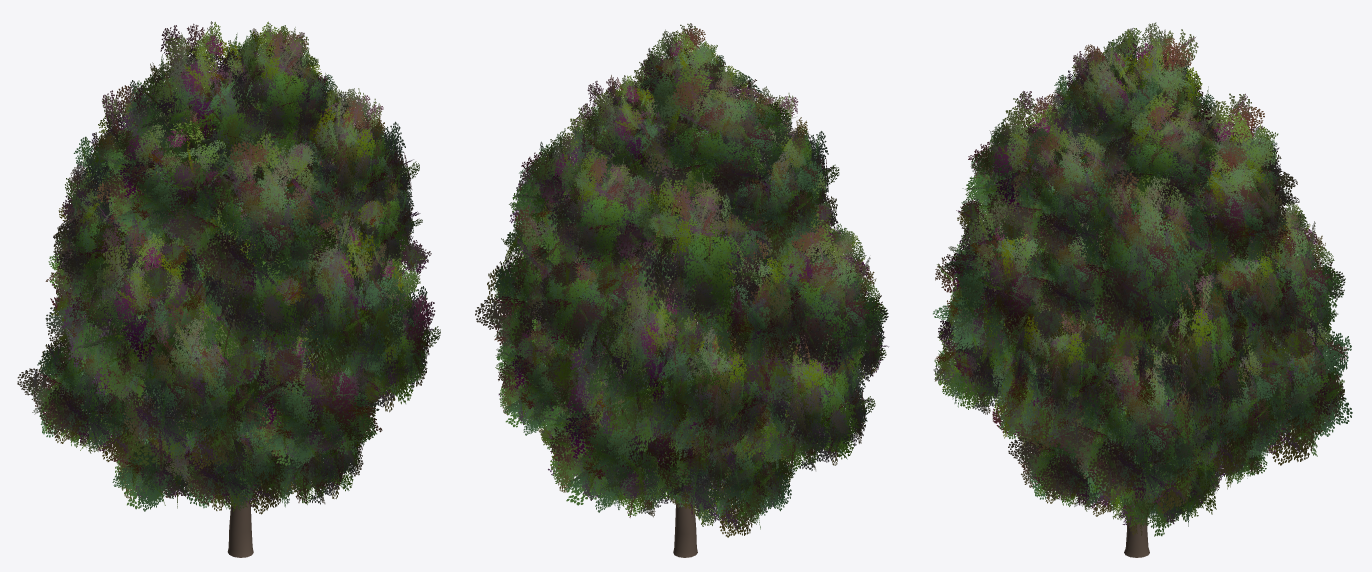
The model's file is tree_medium_upright_asymmetric_canopy.glb.
3 renders of one model, left to right at view 1: azimuth 30°, elevation 25°; view 2: azimuth 150°, elevation 25°; view 3: azimuth 270°, elevation 25°, orthographic. The views are drawn at different scales.
Parts seen in each view (by area): view 1: Camphor_Foliage_OldCrownGroup_26, Camphor_Foliage_OldCrownGroup_18, Camphor_Foliage_OldCrownGroup_11, Camphor_Foliage_OldCrownGroup_20, Camphor_Foliage_OldCrownGroup_29, Camphor_Foliage_OldCrownGroup_12, Camphor_Foliage_OldCrownGroup_25, Camphor_Foliage_OldCrownGroup_27, Camphor_Foliage_OldCrownGroup_19, Camphor_Foliage_OldCrownGroup_30, Camphor_Foliage_OldCrownGroup_10, Camphor_Foliage_OldCrownGroup_04 (+12 smaller); view 2: Camphor_Foliage_OldCrownGroup_29, Camphor_Foliage_OldCrownGroup_16, Camphor_Foliage_OldCrownGroup_24, Camphor_Foliage_OldCrownGroup_08, Camphor_Foliage_OldCrownGroup_18, Camphor_Foliage_OldCrownGroup_10, Camphor_Foliage_OldCrownGroup_23, Camphor_Foliage_OldCrownGroup_09, Camphor_Foliage_OldCrownGroup_17, Camphor_Foliage_OldCrownGroup_03, Camphor_Foliage_OldCrownGroup_25, Camphor_Foliage_OldCrownGroup_28 (+10 smaller); view 3: Camphor_Foliage_OldCrownGroup_22, Camphor_Foliage_OldCrownGroup_06, Camphor_Foliage_OldCrownGroup_14, Camphor_Foliage_OldCrownGroup_27, Camphor_Foliage_OldCrownGroup_20, Camphor_Foliage_OldCrownGroup_13, Camphor_Foliage_OldCrownGroup_28, Camphor_Foliage_OldCrownGroup_23, Camphor_Foliage_OldCrownGroup_29, Camphor_Foliage_OldCrownGroup_30, Camphor_Foliage_OldCrownGroup_08, Camphor_Foliage_OldCrownGroup_26 (+10 smaller).
Part boxes in pixels (box(x1,y1,x2,y2)): Camphor_Foliage_OldCrownGroup_26: box(166, 133, 384, 402); Camphor_Foliage_OldCrownGroup_18: box(61, 223, 263, 475); Camphor_Foliage_OldCrownGroup_11: box(117, 297, 269, 468); Camphor_Foliage_OldCrownGroup_20: box(257, 210, 412, 389); Camphor_Foliage_OldCrownGroup_29: box(120, 21, 271, 191); Camphor_Foliage_OldCrownGroup_12: box(243, 318, 382, 468); Camphor_Foliage_OldCrownGroup_25: box(100, 99, 233, 245); Camphor_Foliage_OldCrownGroup_27: box(272, 88, 405, 456); Camphor_Foliage_OldCrownGroup_19: box(175, 200, 317, 359); Camphor_Foliage_OldCrownGroup_30: box(212, 21, 329, 150); Camphor_Foliage_OldCrownGroup_10: box(17, 312, 152, 461); Camphor_Foliage_OldCrownGroup_04: box(164, 384, 302, 514); Camphor_Foliage_OldCrownGroup_29: box(516, 63, 792, 389); Camphor_Foliage_OldCrownGroup_16: box(570, 270, 794, 451); Camphor_Foliage_OldCrownGroup_24: box(615, 171, 774, 471); Camphor_Foliage_OldCrownGroup_08: box(538, 337, 691, 513); Camphor_Foliage_OldCrownGroup_18: box(741, 213, 888, 382); Camphor_Foliage_OldCrownGroup_10: box(743, 333, 875, 471); Camphor_Foliage_OldCrownGroup_23: box(536, 148, 654, 277); Camphor_Foliage_OldCrownGroup_09: box(644, 321, 764, 462); Camphor_Foliage_OldCrownGroup_17: box(696, 234, 815, 370); Camphor_Foliage_OldCrownGroup_03: box(664, 434, 795, 537); Camphor_Foliage_OldCrownGroup_25: box(701, 115, 822, 258); Camphor_Foliage_OldCrownGroup_28: box(538, 73, 680, 446); Camphor_Foliage_OldCrownGroup_22: box(956, 126, 1218, 354); Camphor_Foliage_OldCrownGroup_06: box(1056, 338, 1216, 513); Camphor_Foliage_OldCrownGroup_14: box(1033, 267, 1257, 444); Camphor_Foliage_OldCrownGroup_27: box(992, 122, 1122, 451); Camphor_Foliage_OldCrownGroup_20: box(933, 199, 1045, 363); Camphor_Foliage_OldCrownGroup_13: box(989, 302, 1107, 439); Camphor_Foliage_OldCrownGroup_28: box(1101, 92, 1258, 464); Camphor_Foliage_OldCrownGroup_23: box(1165, 139, 1299, 275); Camphor_Foliage_OldCrownGroup_29: box(1071, 22, 1316, 380); Camphor_Foliage_OldCrownGroup_30: box(1045, 41, 1166, 162); Camphor_Foliage_OldCrownGroup_08: box(1243, 301, 1352, 465); Camphor_Foliage_OldCrownGroup_26: box(951, 91, 1086, 377).
Bounding box in the file's own units: 12.48 × 16.24 × 12.18.
2 materials, 1 textured.
